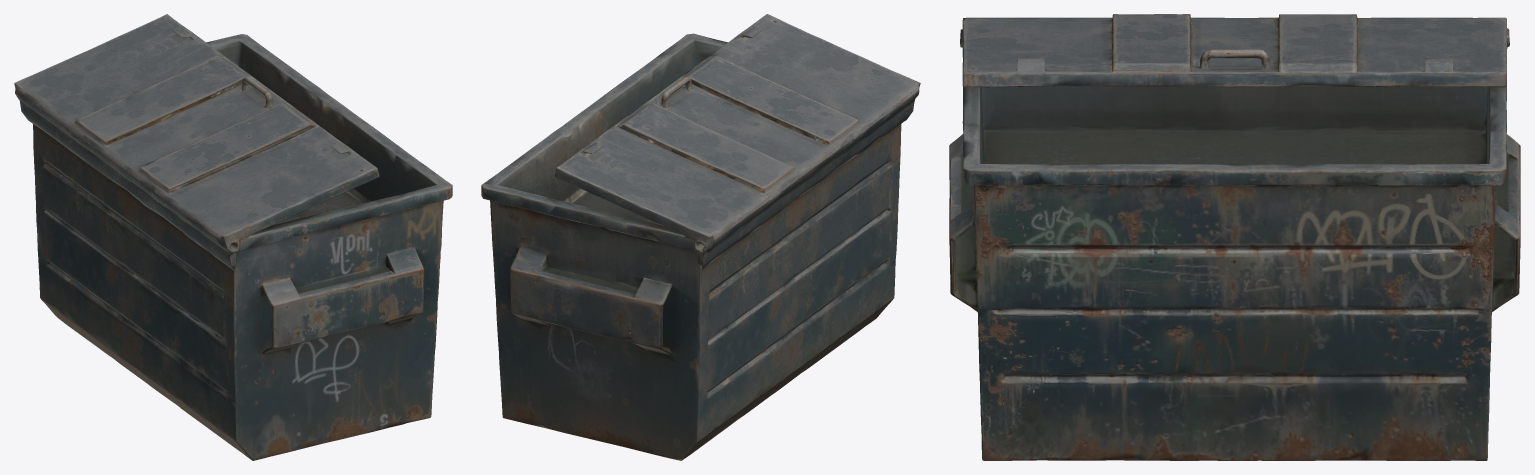
The model's file is Low Poly Stylized Industrial Dumpster.obj.
The picture shows the model from 3 angles, left to right: view 1: azimuth 30°, elevation 25°; view 2: azimuth 150°, elevation 25°; view 3: azimuth 270°, elevation 25°; orthographic projection. The views are drawn at different scales.
Parts seen in each view (by area): view 1: Low_Poly_Stylized_Industrial_Dumpster; view 2: Low_Poly_Stylized_Industrial_Dumpster; view 3: Low_Poly_Stylized_Industrial_Dumpster.
Boxes of the visible parts, left/top/right/bottom form: Low_Poly_Stylized_Industrial_Dumpster: left=14, top=14, right=452, bottom=460; Low_Poly_Stylized_Industrial_Dumpster: left=481, top=14, right=920, bottom=460; Low_Poly_Stylized_Industrial_Dumpster: left=949, top=14, right=1520, bottom=460.
Size of the model in its own units: 0.6118 by 0.7018 by 1.
1 material, 1 textured.
